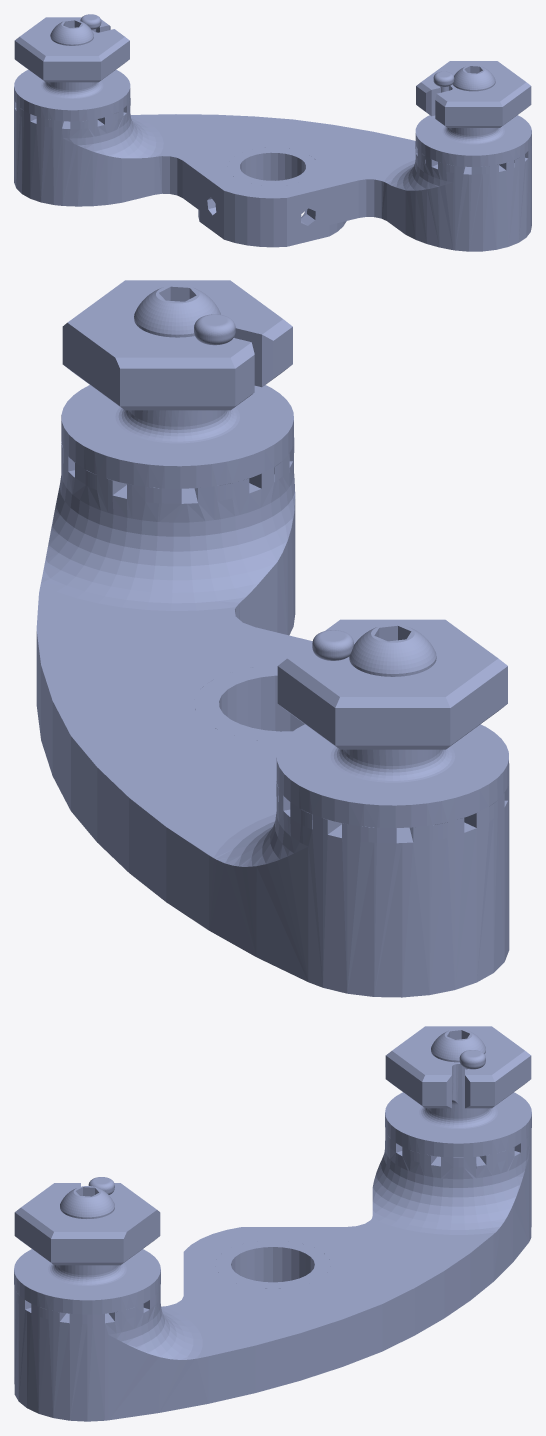
Rendered from transmission_arm_right.dae.
3 renders of one model, top to bottom at view 1: azimuth 30°, elevation 25°; view 2: azimuth 150°, elevation 25°; view 3: azimuth 270°, elevation 25°, orthographic. The views are drawn at different scales.
Parts seen in each view (by area): view 1: Transmission_Arm; view 2: Transmission_Arm; view 3: Transmission_Arm.
Boxes of the visible parts, x1=… form: Transmission_Arm: x1=14, y1=14, x2=531, y2=251; Transmission_Arm: x1=36, y1=280, x2=509, y2=997; Transmission_Arm: x1=14, y1=1026, x2=531, y2=1421.
Bounding box in the file's own units: 0.0988 × 0.0987 × 0.0448.
